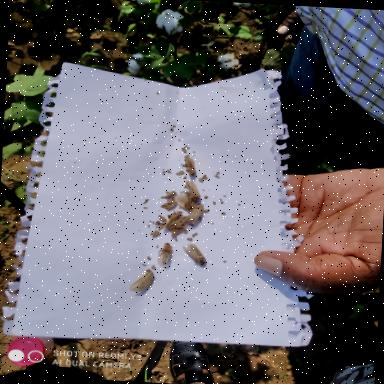abw: (125, 265, 158, 295), (184, 241, 212, 265), (180, 180, 206, 202), (185, 202, 209, 223), (178, 155, 201, 176), (168, 192, 193, 210), (157, 240, 174, 264)
